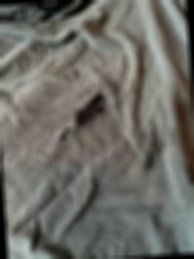oil: (52, 85, 111, 147)
